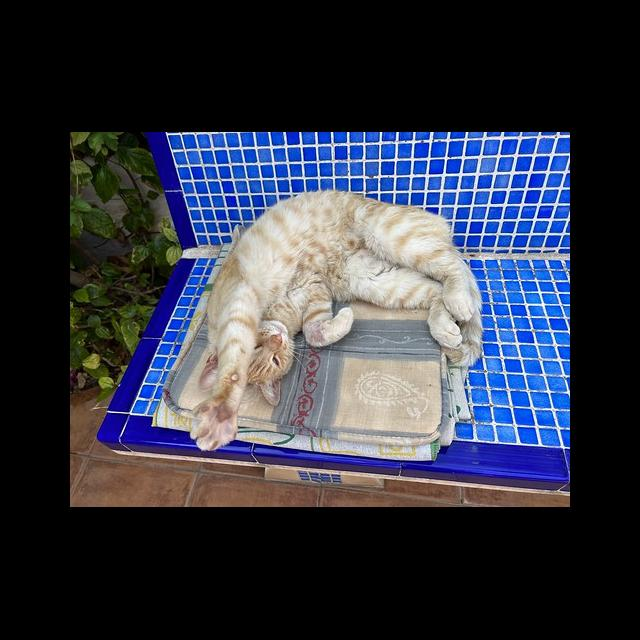animals: (156, 192, 484, 451)
